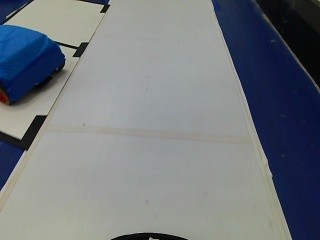car: (0, 18, 66, 103)
